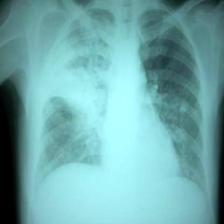tuberculosis: (28, 1, 210, 202)
